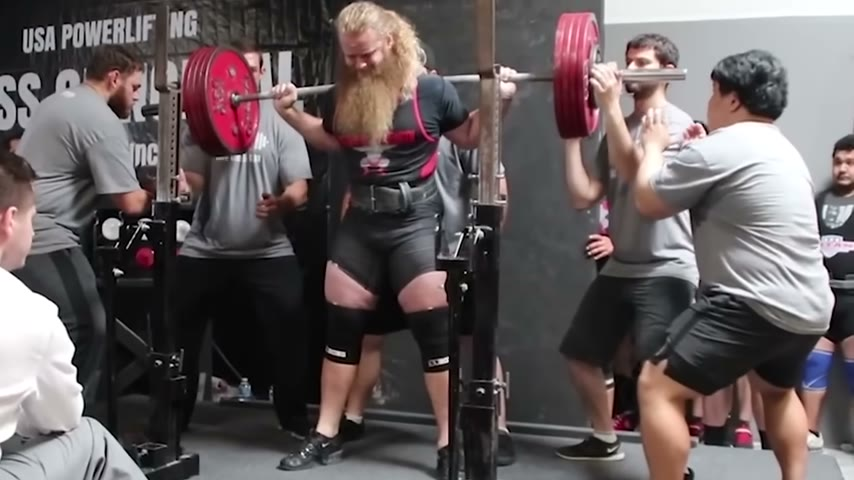barbell_plate_side: (171, 45, 277, 168)
